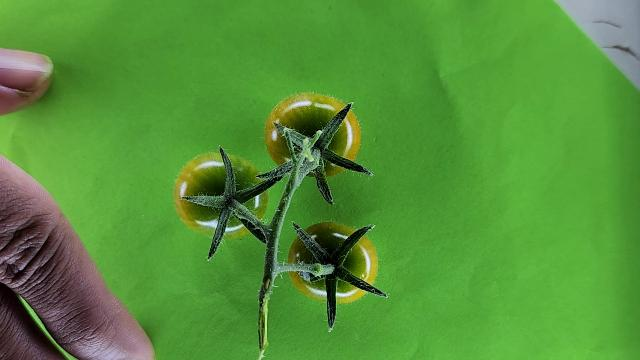Fully Grown: (173, 152, 270, 240), (264, 92, 362, 179), (287, 221, 379, 303)
